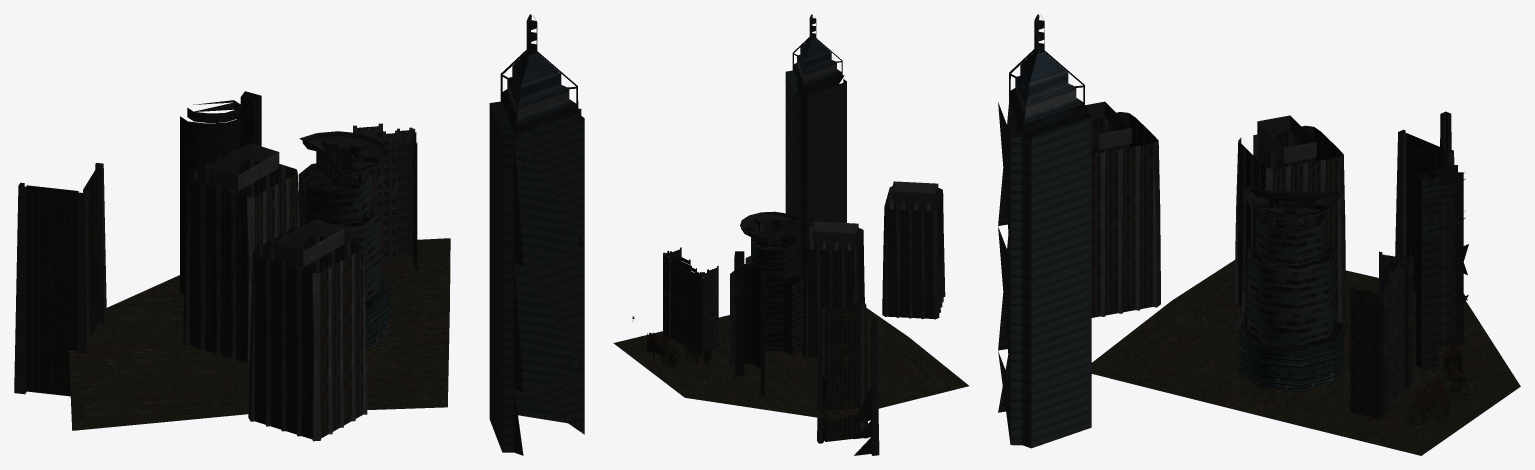
The model's file is cell_-1_2.gltf.
3 renders of one model, left to right at view 1: azimuth 30°, elevation 25°; view 2: azimuth 150°, elevation 25°; view 3: azimuth 270°, elevation 25°, orthographic. The views are drawn at different scales.
Visible parts, largest first — view 1: cell_-1_2; view 2: cell_-1_2; view 3: cell_-1_2.
Boxes of the visible parts, box(x1,y1,x2,y2) form: cell_-1_2: box(14, 14, 584, 455); cell_-1_2: box(613, 14, 968, 455); cell_-1_2: box(998, 14, 1520, 455).
Bounding box in the file's own units: 297 × 277 × 294.
22 materials, 22 textured.
